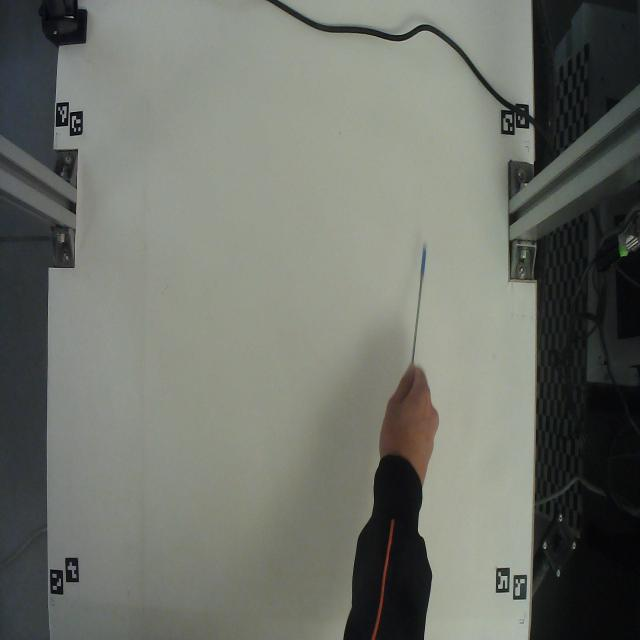NoPres: (398, 222, 435, 372)
